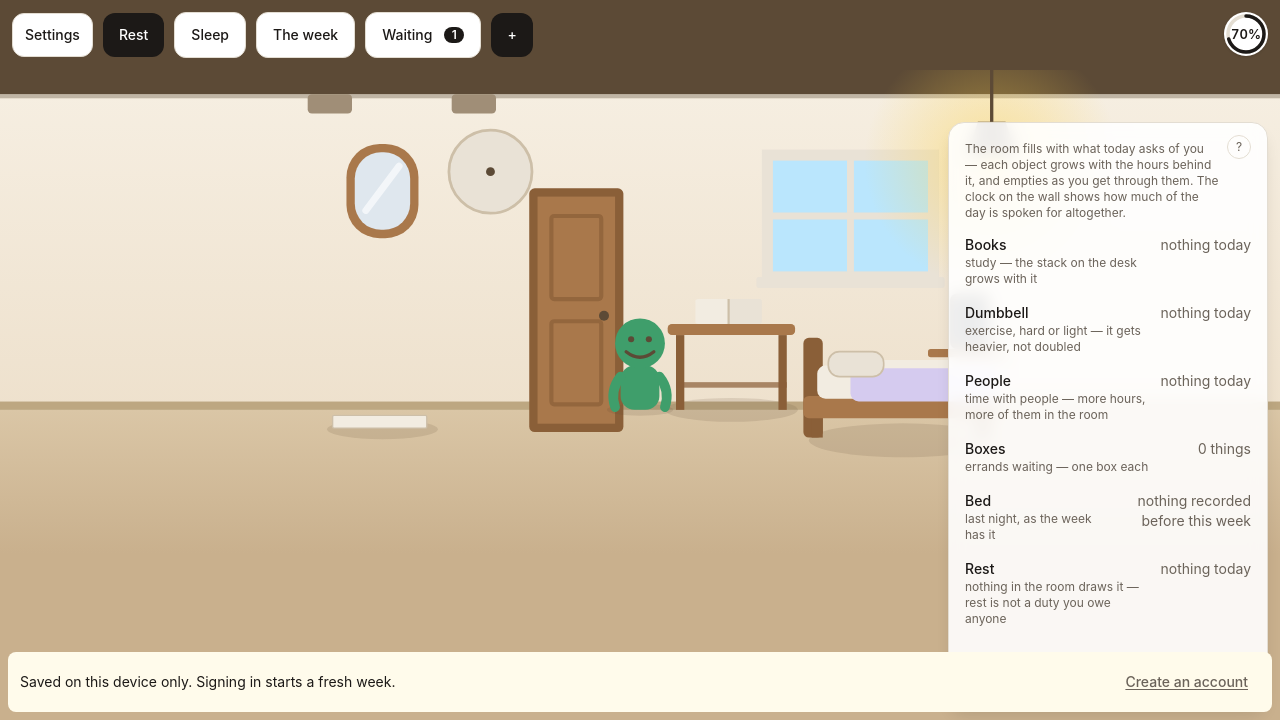
Test case: RoomShell, the add sheet › the photograph way opens the photo importer
Step 1. Click the button with test id "open-add" → (512, 35), box [491,13,533,57]
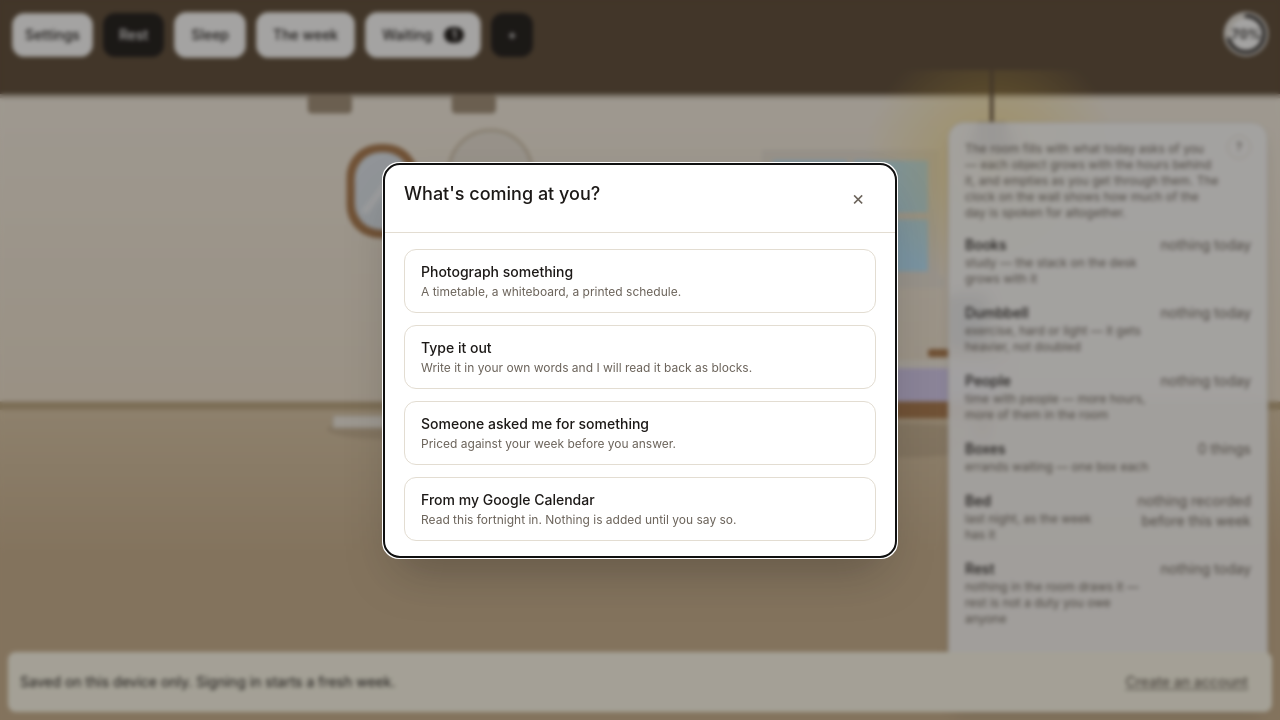
Step 2. Click the button with test id "add-photo" → (640, 280), box [404,248,876,312]
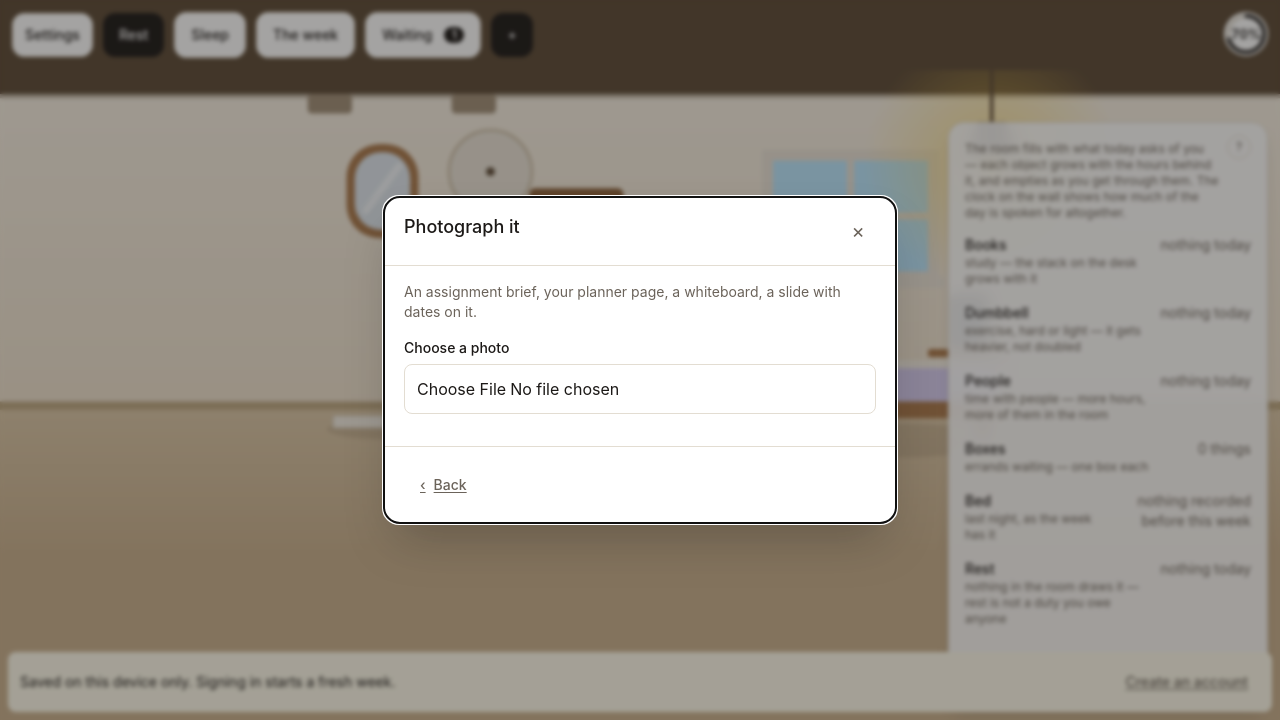
Expected: the file field with test id "photo-input" is shown, [404,364,876,414]
